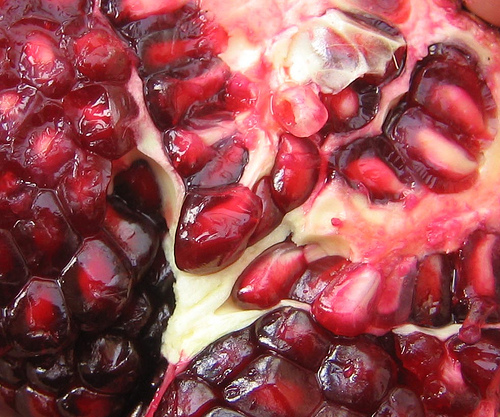pomogranate: (1, 0, 498, 413)
